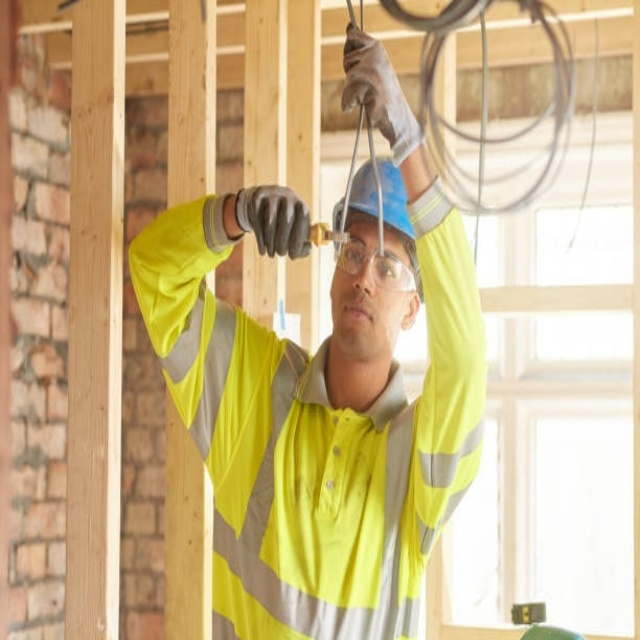Gafas: (333, 234, 417, 293)
Guantes: (341, 23, 424, 160), (228, 184, 313, 259)
Sin_mascara: (338, 296, 379, 340)
